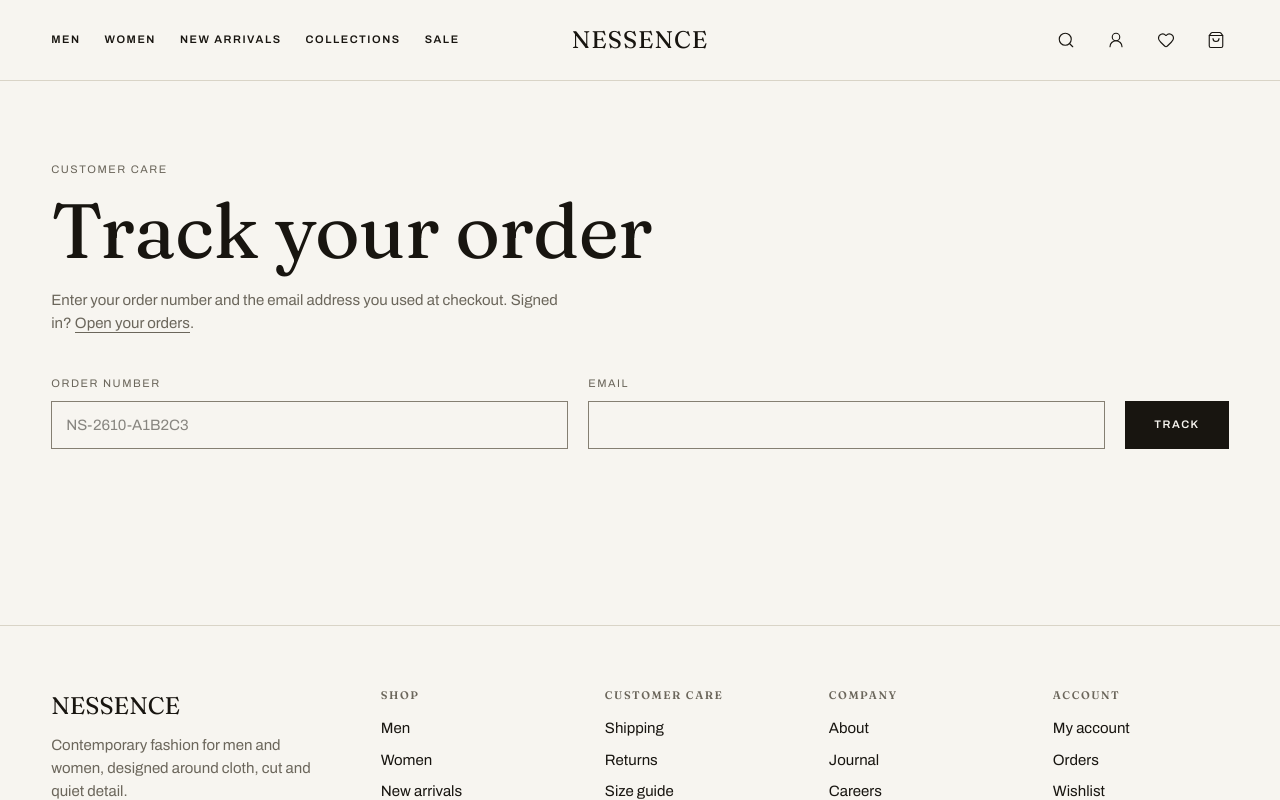
Test case: track order › retrieves the real order with the number and email
Check: the heading "Track your order" is shown, box [51,183,652,278]
Step 1. Type "ns-2610-a1b2c3" into the field labelled "Order number" → (310, 424), box [51,400,568,448]
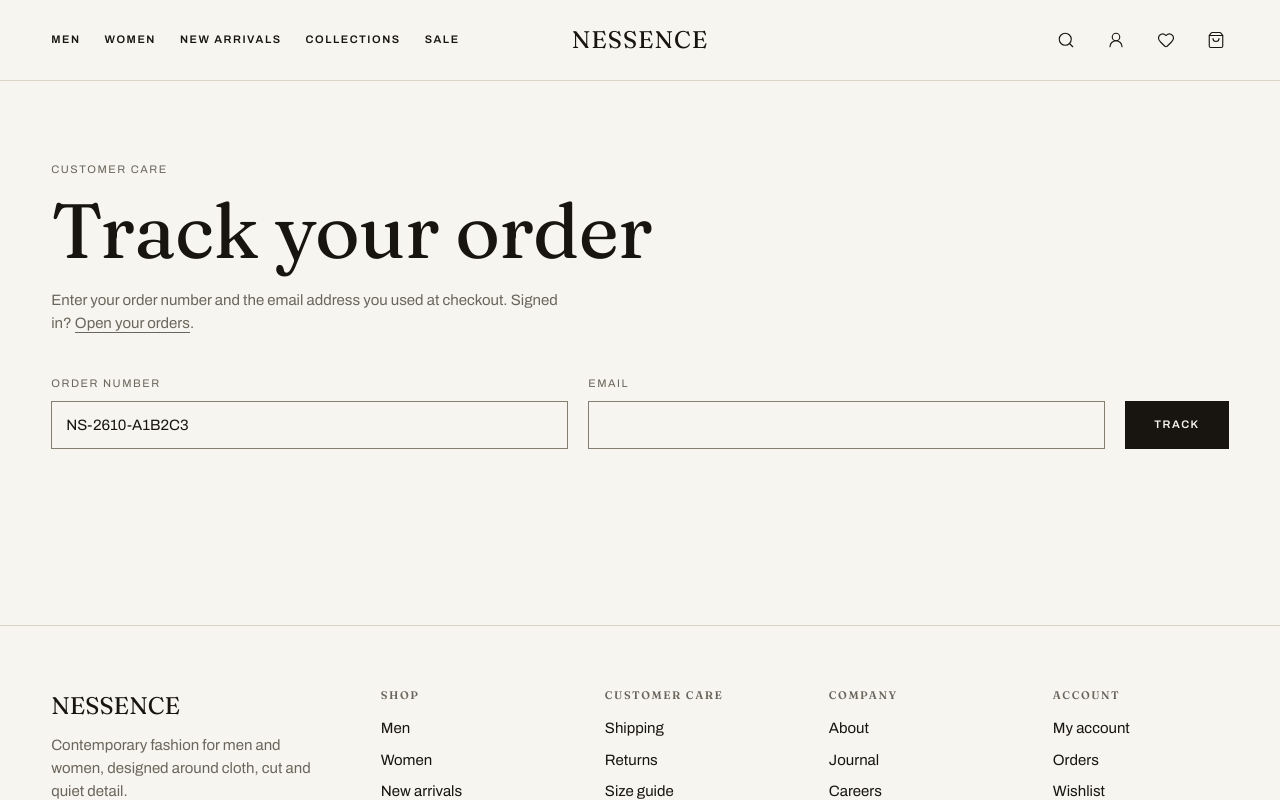
Step 2. Type "mira@example.com" into the field labelled "Email" → (847, 424), box [588,400,1105,448]
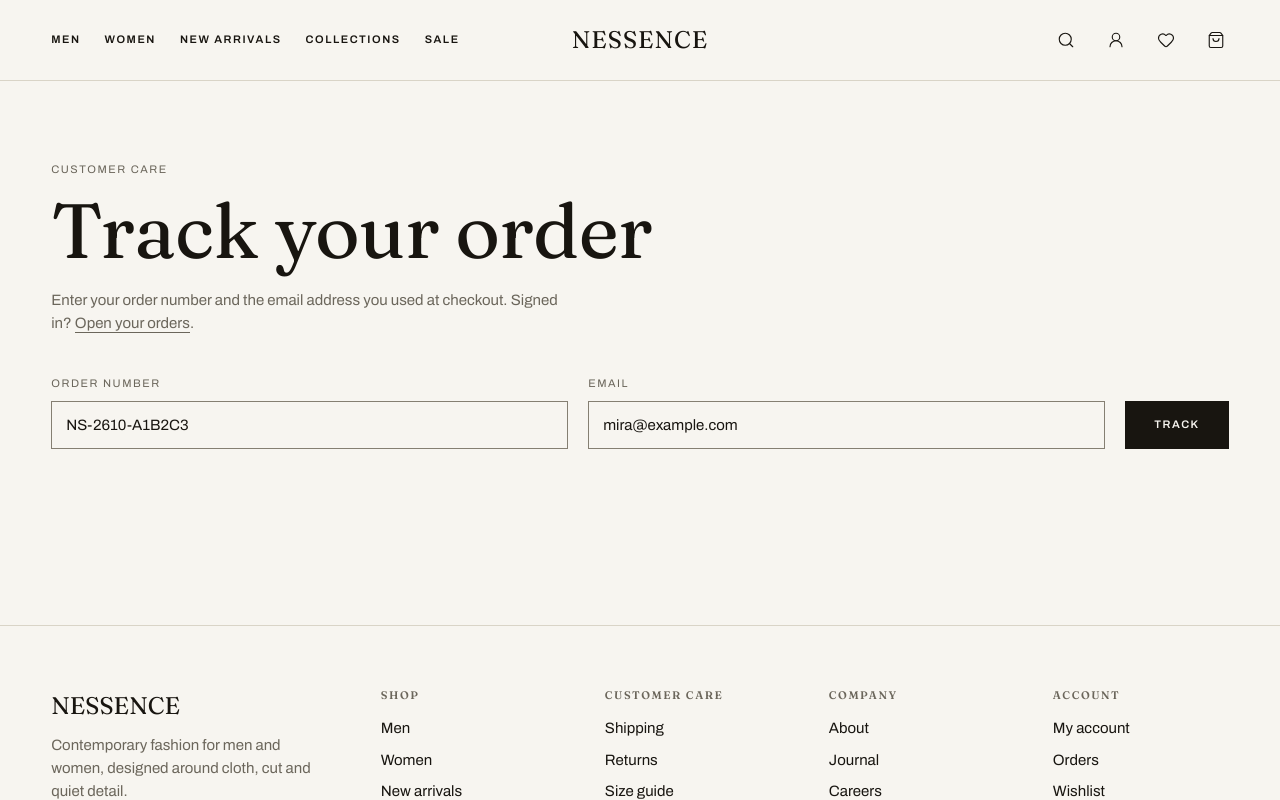
Step 3. Click the button "Track" → (1177, 424), box [1125,400,1229,448]
(page scrolled)
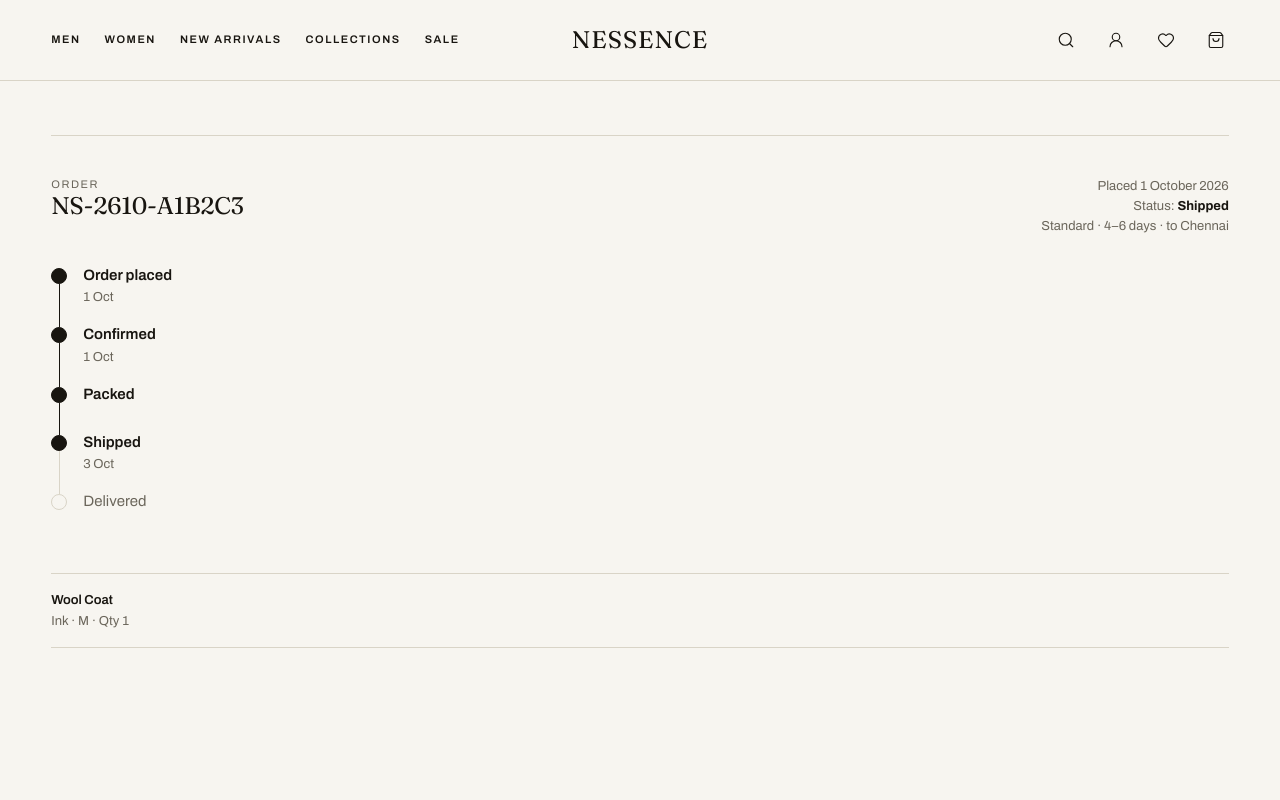
Check: the heading "NS-2610-A1B2C3" is shown, box [51,193,243,218]
Check: the text "Wool Coat" is shown, box [51,593,113,607]
Check: the list named "Order progress" is shown, box [51,267,172,510]
